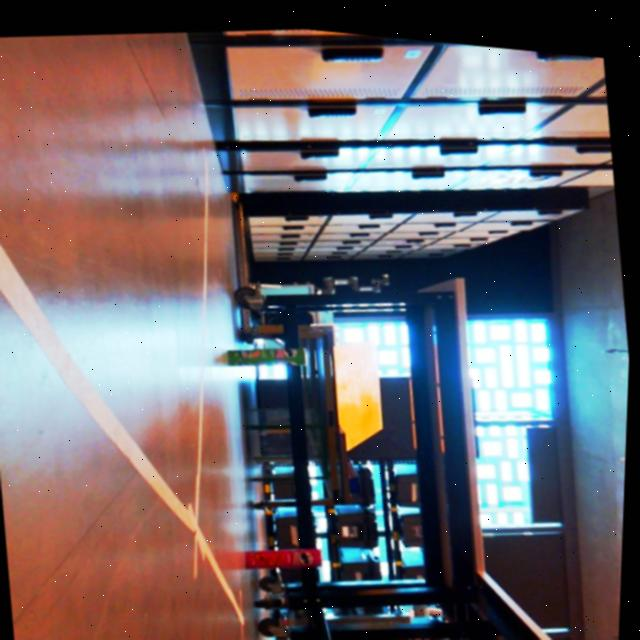greenpringles: (202, 325, 314, 384)
redpringles: (249, 532, 333, 575)
